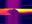Hotspot: (16, 9, 31, 14)
